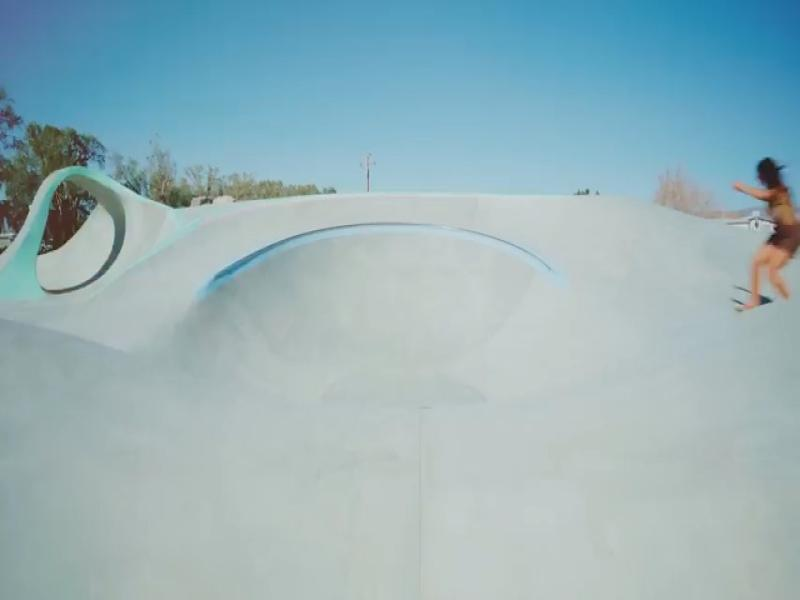person: (734, 158, 800, 312)
